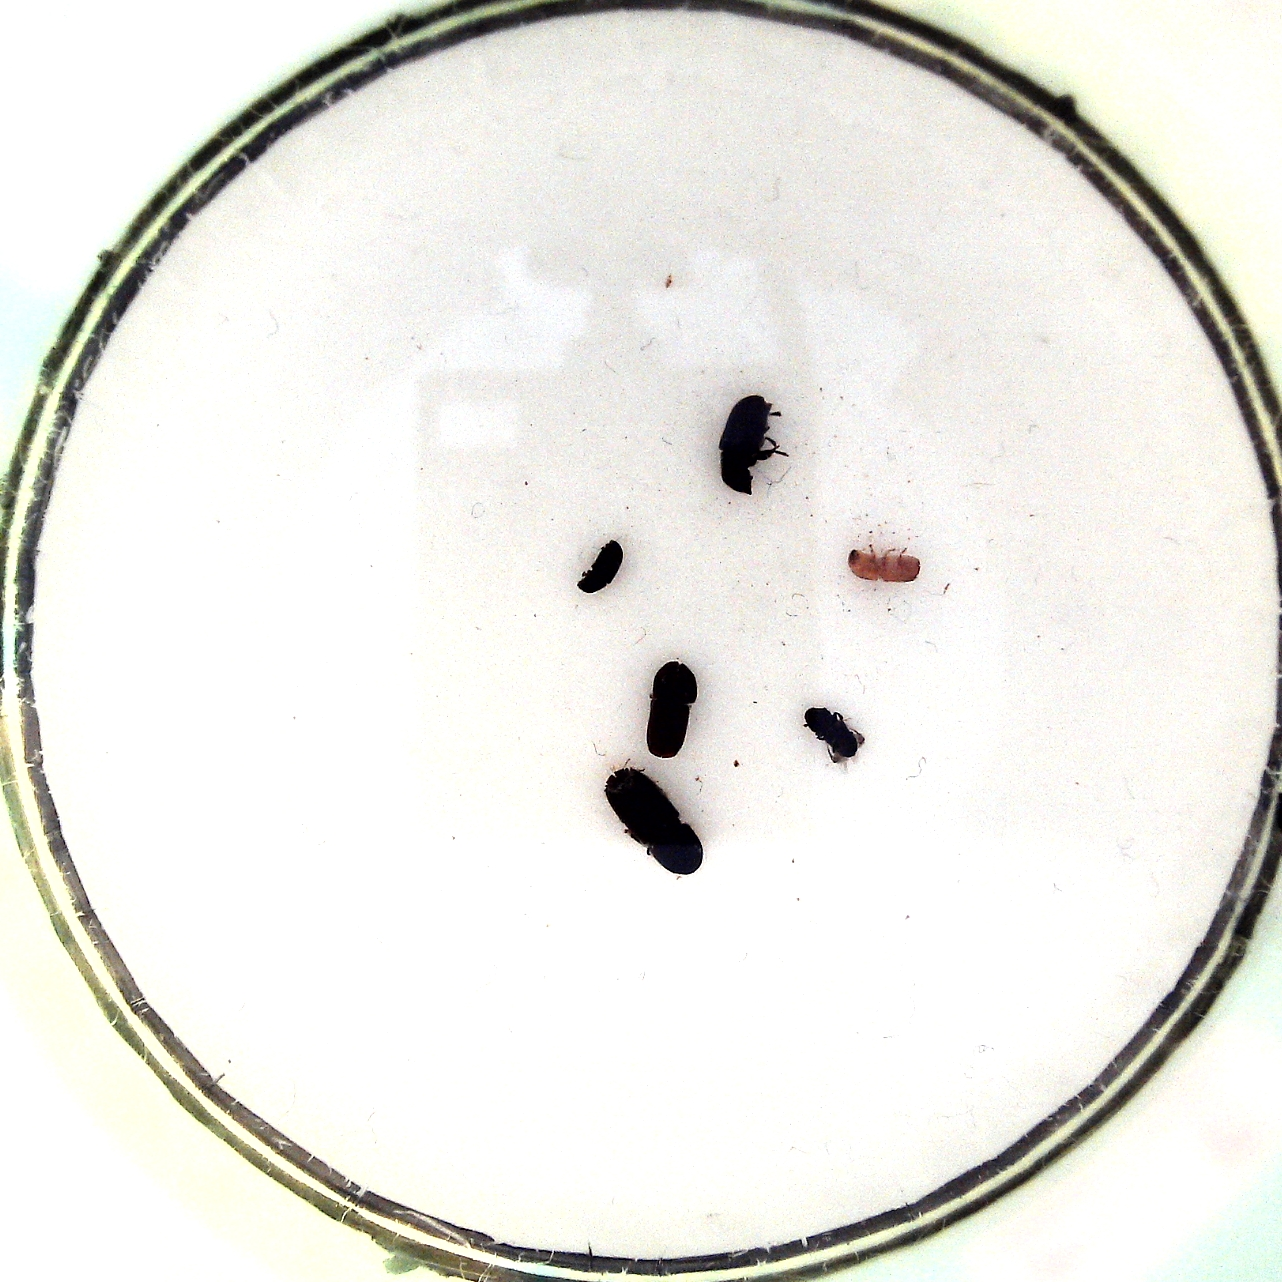Boerner: (600, 760, 710, 883)
Linnaeus: (643, 653, 700, 761)
acuminatus: (844, 538, 927, 589)
armandi: (711, 386, 788, 499)
coleoptera: (802, 702, 873, 772), (574, 535, 633, 599)
